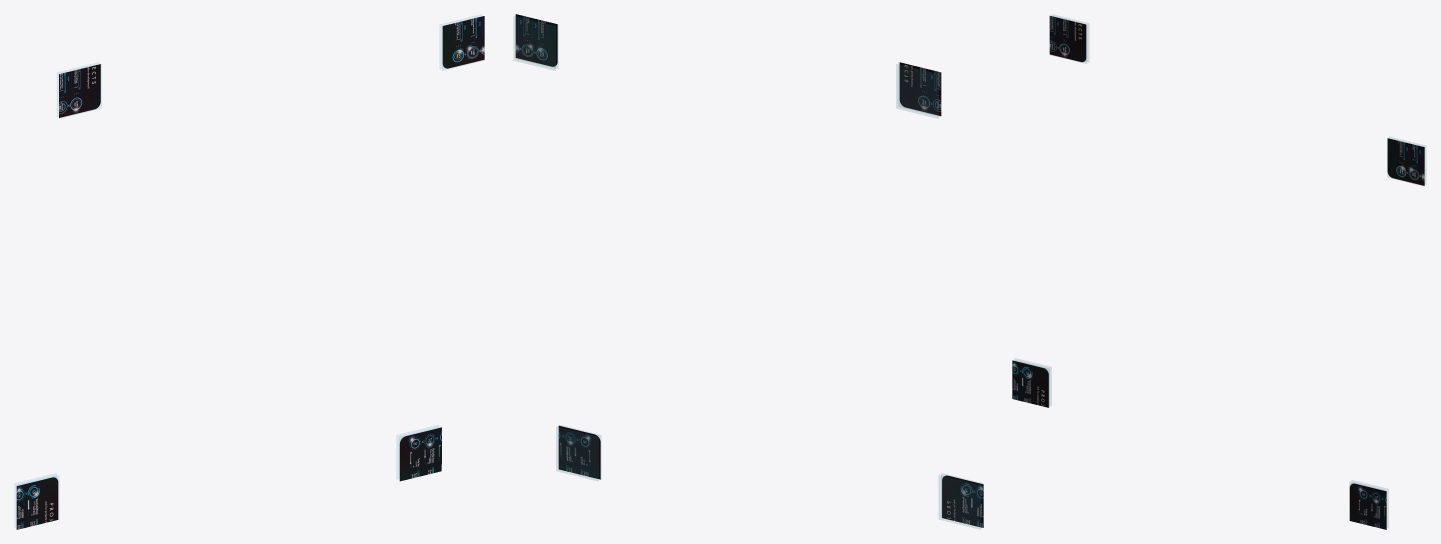
Rendered from panel-6.gltf.
The picture shows the model from 3 angles, left to right: view 1: azimuth 30°, elevation 25°; view 2: azimuth 150°, elevation 25°; view 3: azimuth 330°, elevation 25°; orthographic projection. The views are drawn at different scales.
Parts seen in each view (by area): view 1: Cube.002_cell, Cube.002_cell.007, Cube.002_cell.006, Cube.002_cell.003; view 2: Cube.002_cell.007, Cube.002_cell, Cube.002_cell.003, Cube.002_cell.006; view 3: Cube.002_cell, Cube.002_cell.003, Cube.002_cell.007, Cube.002_cell.006.
Boxes of the visible parts, box(x1,y1,x2,y2) form: Cube.002_cell: box(397, 425, 441, 481); Cube.002_cell.007: box(57, 62, 101, 118); Cube.002_cell.006: box(440, 14, 484, 70); Cube.002_cell.003: box(15, 473, 58, 529); Cube.002_cell.007: box(896, 62, 941, 118); Cube.002_cell: box(556, 425, 600, 480); Cube.002_cell.003: box(939, 473, 983, 529); Cube.002_cell.006: box(514, 14, 557, 70); Cube.002_cell: box(1349, 480, 1388, 529); Cube.002_cell.003: box(1012, 358, 1051, 407); Cube.002_cell.007: box(1049, 14, 1088, 63); Cube.002_cell.006: box(1387, 137, 1425, 185).
Bounding box in the file's own units: 10.9 × 10.92 × 0.1.
1 material, 1 textured.
